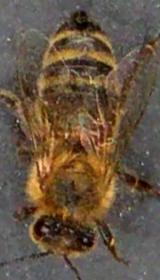varroa_mite: (89, 117, 121, 149)
